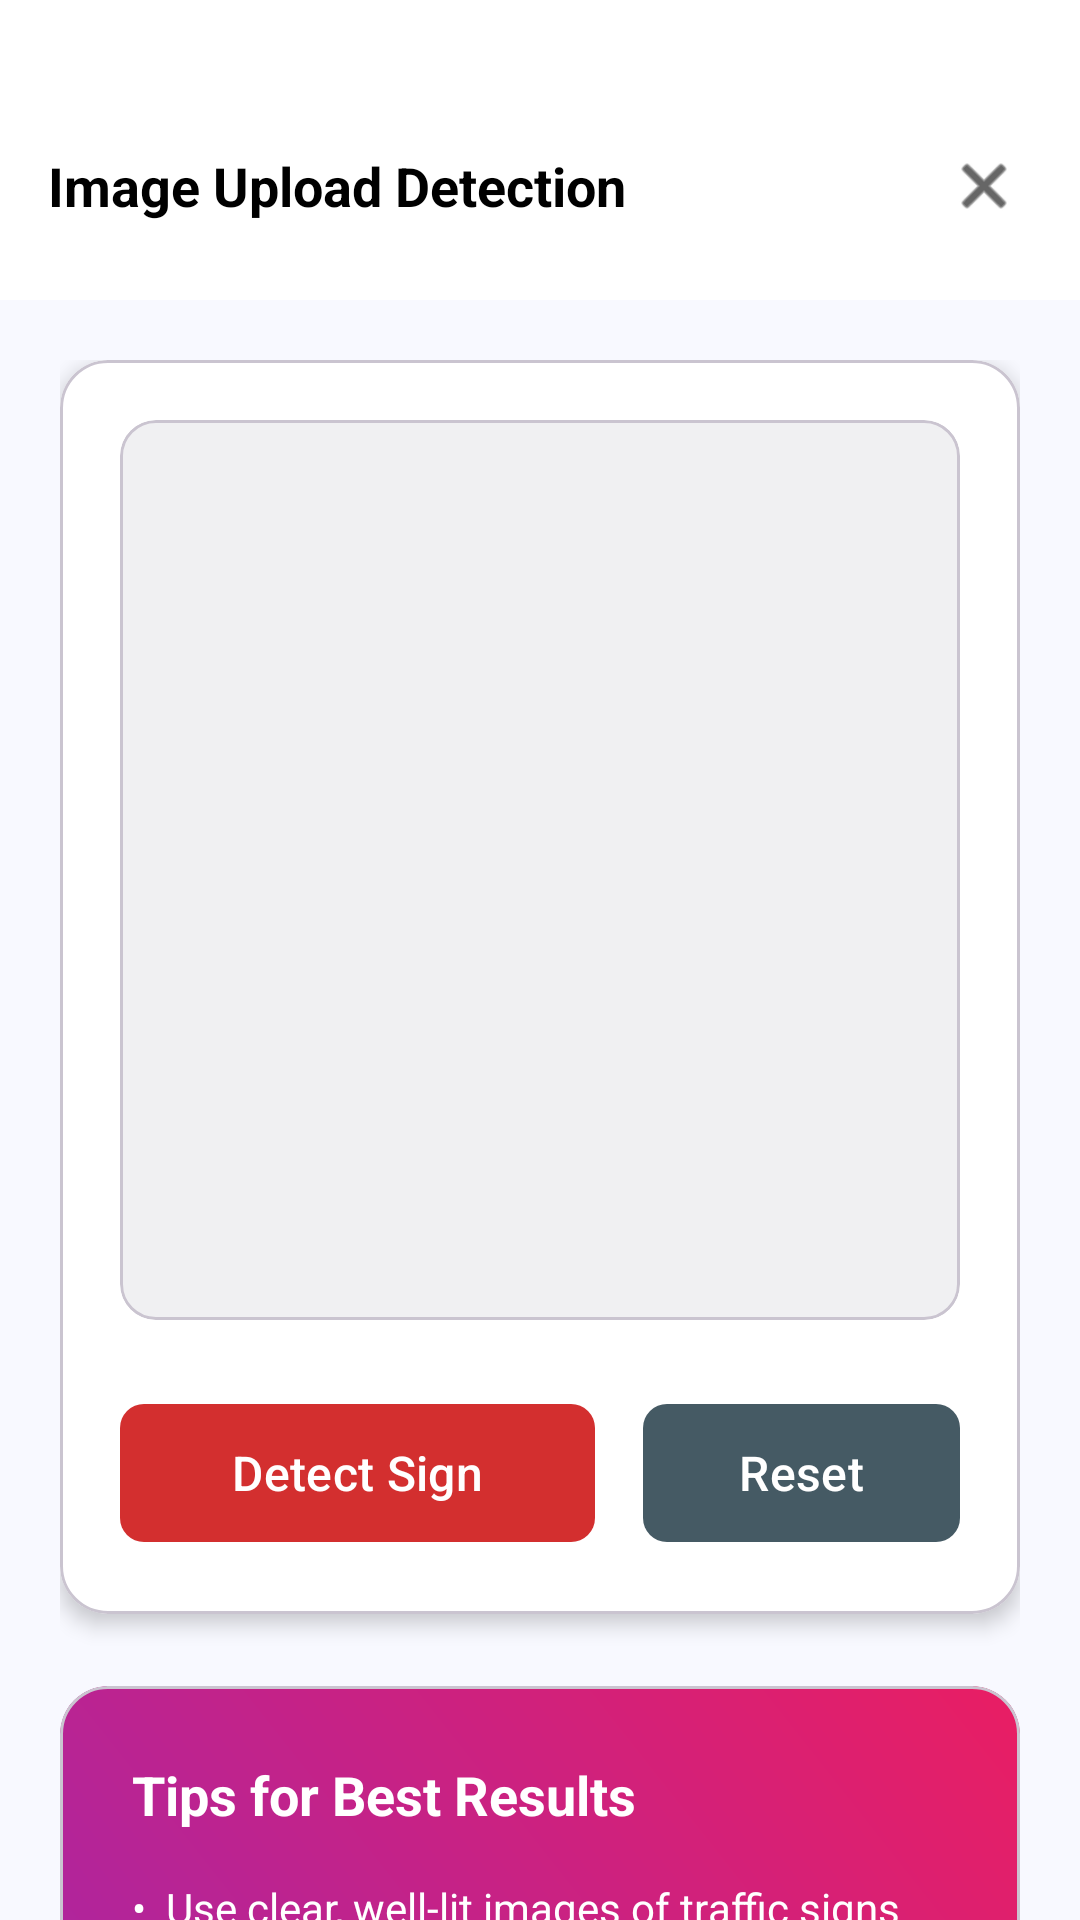

Icons on this 1080x1920 Android screen, each with its box as BBox(x1, y1, x2, y2):
close clear cancel: BBox(961, 163, 1007, 209)
